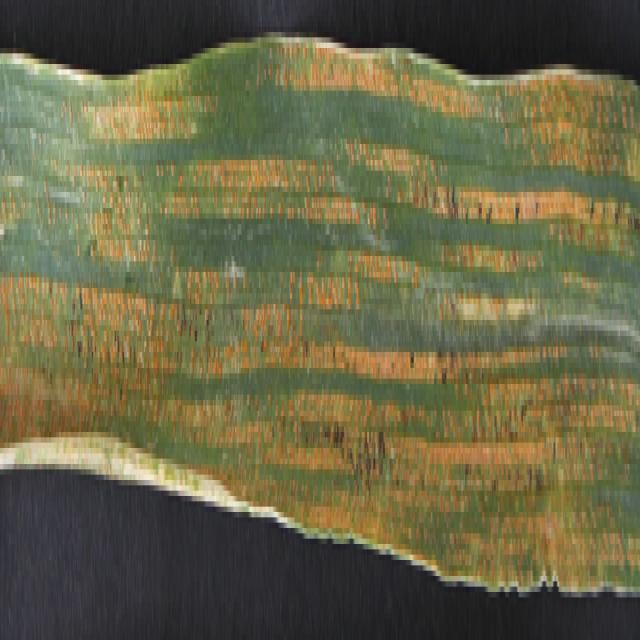leaf rust: (1, 10, 636, 602)
